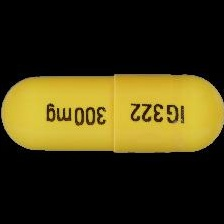68788-7377: (0, 0, 224, 224)
